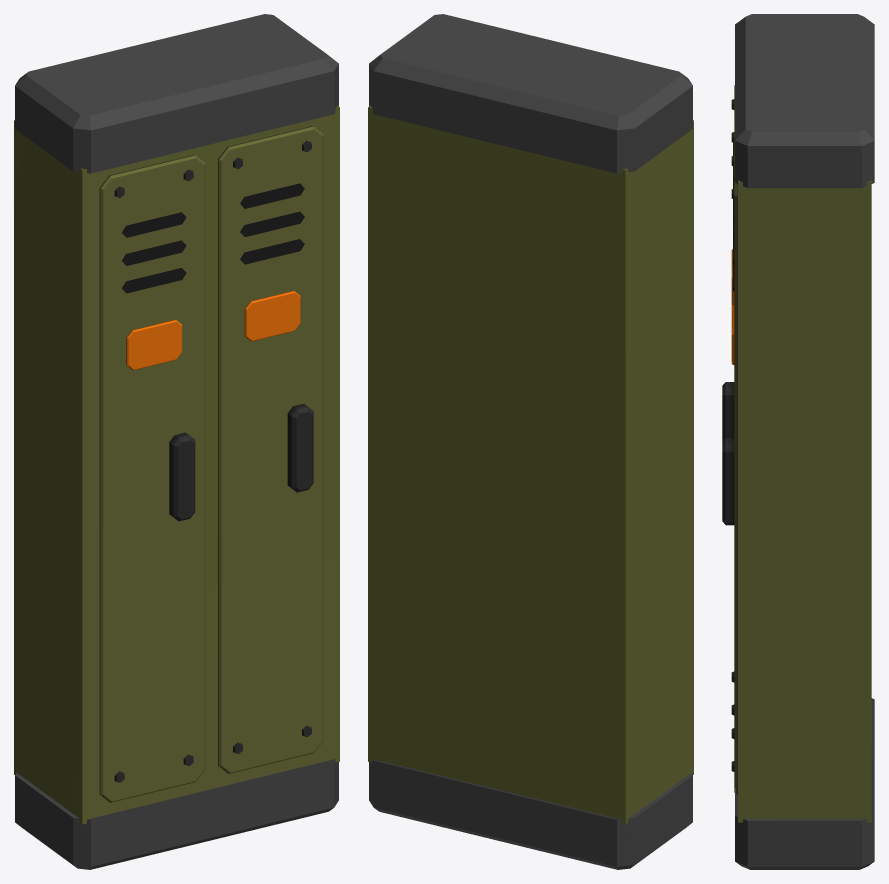
File: locker.glb
The picture shows the model from 3 angles, left to right: view 1: azimuth 30°, elevation 25°; view 2: azimuth 150°, elevation 25°; view 3: azimuth 270°, elevation 25°; orthographic projection. The views are drawn at different scales.
Visible parts, largest first — view 1: locker; view 2: locker; view 3: locker.
Part boxes in pixels (x1,y1,x2,y2): locker: [14, 14, 339, 869]; locker: [368, 14, 693, 869]; locker: [722, 14, 874, 869].
Bounding box in the file's own units: 0.71 × 1.92 × 0.36.
Materials: 1 (1 with a texture image).
